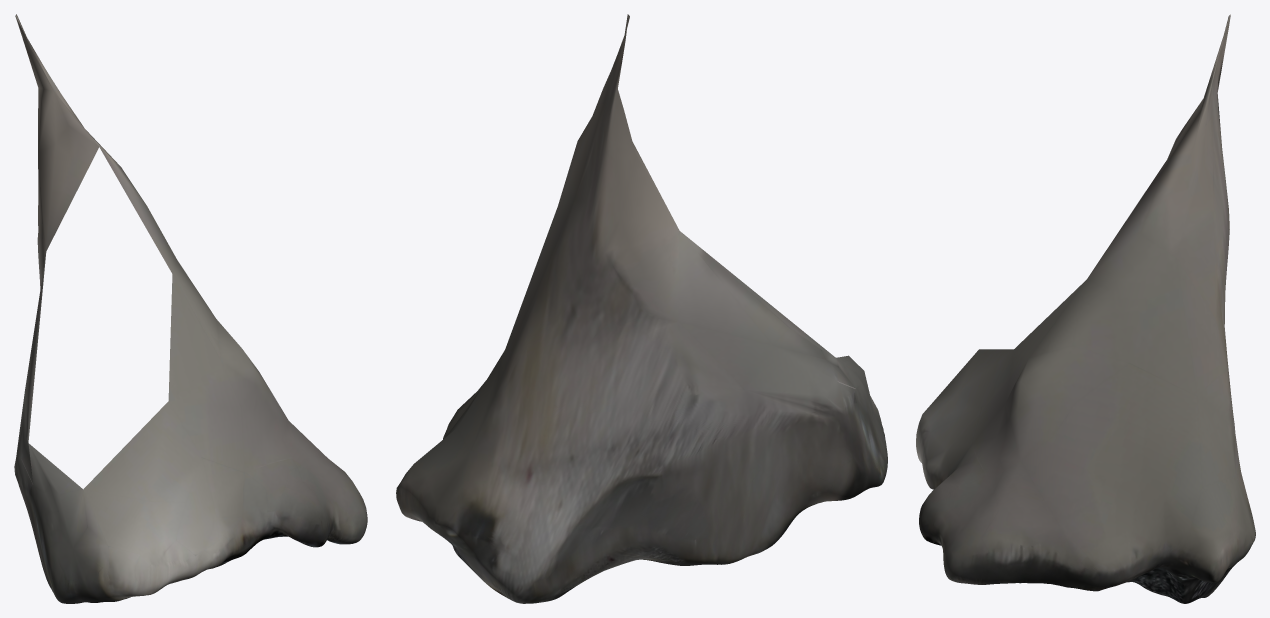
3 renders of one model, left to right at view 1: azimuth 30°, elevation 25°; view 2: azimuth 150°, elevation 25°; view 3: azimuth 270°, elevation 25°, orthographic. The views are drawn at different scales.
Bounding box in the file's own units: 0.4188 × 0.6915 × 0.4014.
Materials: 1 (1 with a texture image).
